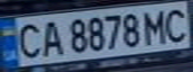7: (103, 11, 124, 51)
8: (63, 16, 87, 54), (121, 10, 145, 47), (84, 14, 106, 52)
A: (36, 18, 66, 57)
C: (9, 20, 45, 60), (160, 4, 193, 43)
M: (139, 7, 172, 45)
